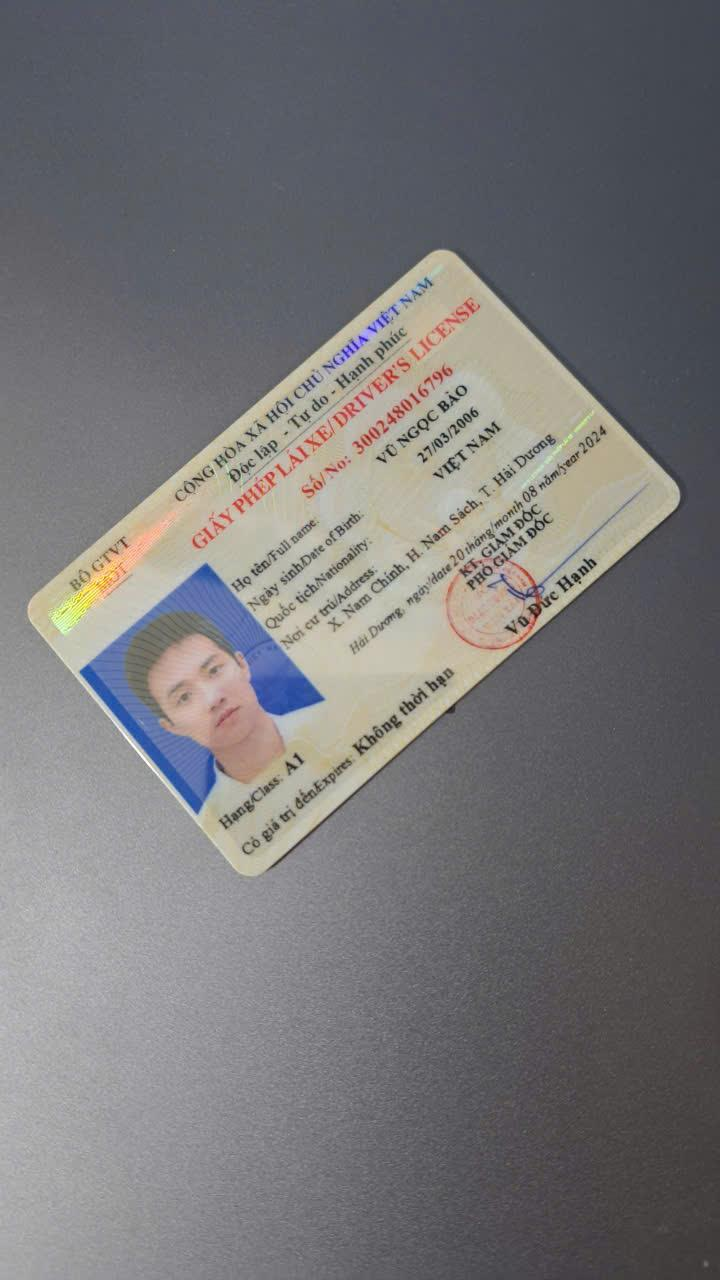gplx: (20, 237, 692, 888)
